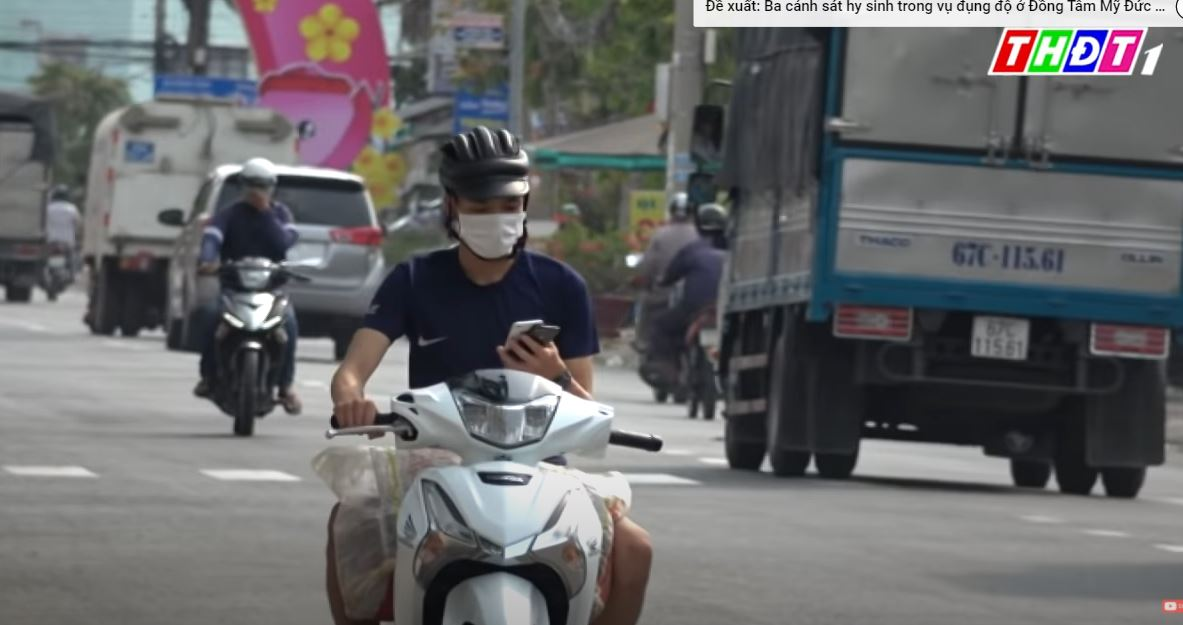dieu khien xe may: (370, 124, 610, 621)
